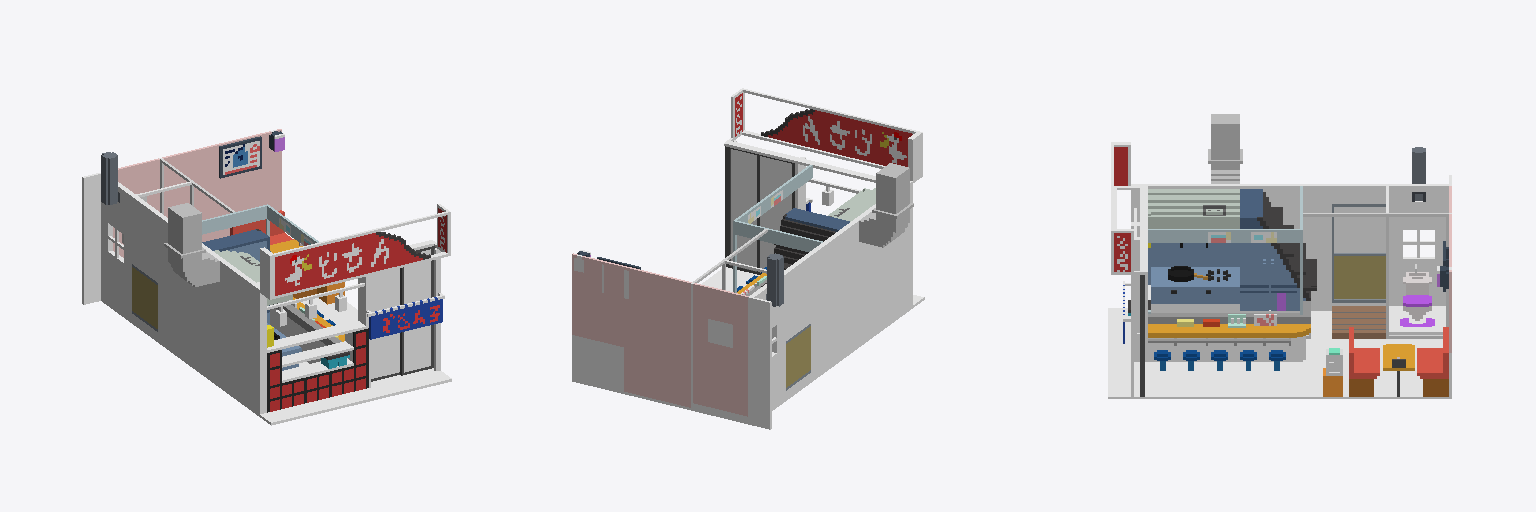
3 renders of one model, left to right at view 1: azimuth 30°, elevation 25°; view 2: azimuth 150°, elevation 25°; view 3: azimuth 270°, elevation 25°, orthographic.
Size of the model in its own units: 89 by 69 by 120.
Materials: 1 (1 with a texture image).